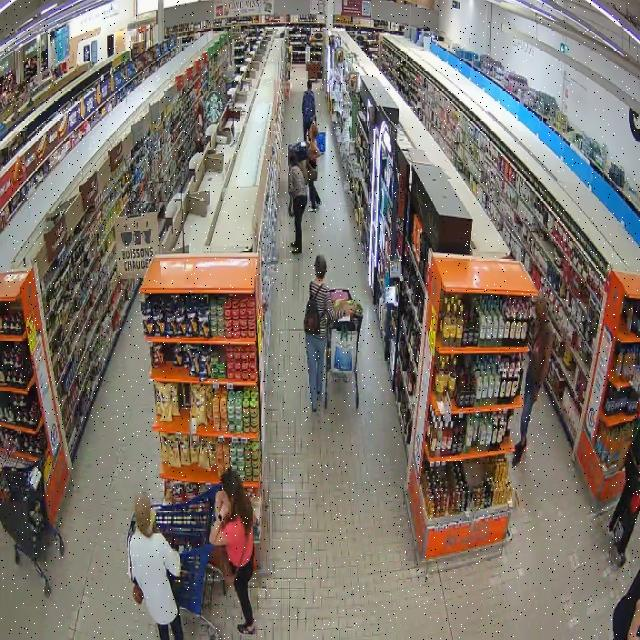bags: (129, 537, 144, 604), (214, 547, 235, 587), (304, 292, 320, 335), (309, 163, 318, 181)
hands: (219, 503, 229, 522), (532, 384, 539, 401)
person: (130, 494, 183, 639), (210, 468, 255, 636), (306, 255, 352, 412), (513, 297, 552, 465), (609, 438, 639, 566), (289, 150, 307, 254), (308, 124, 321, 211)
